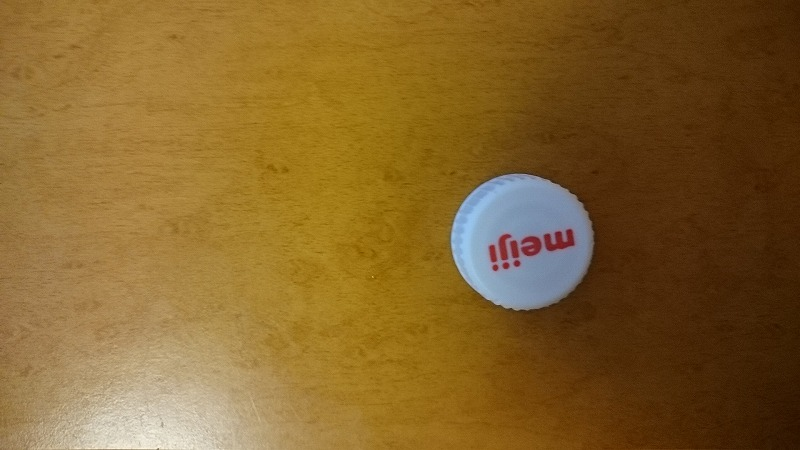B: (442, 165, 614, 321)
